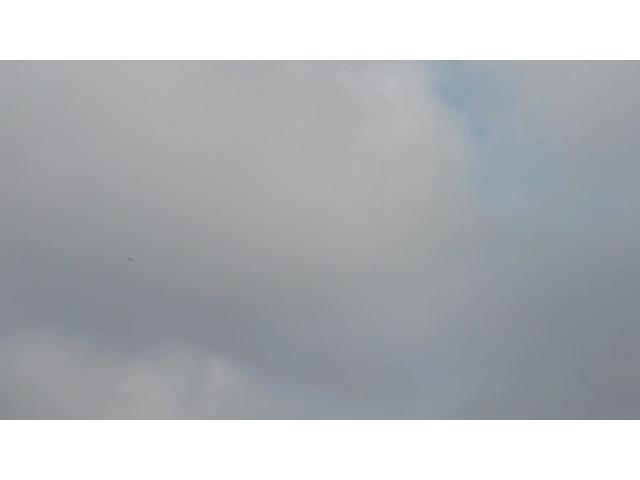Anti-Drone: (126, 257, 134, 261)
